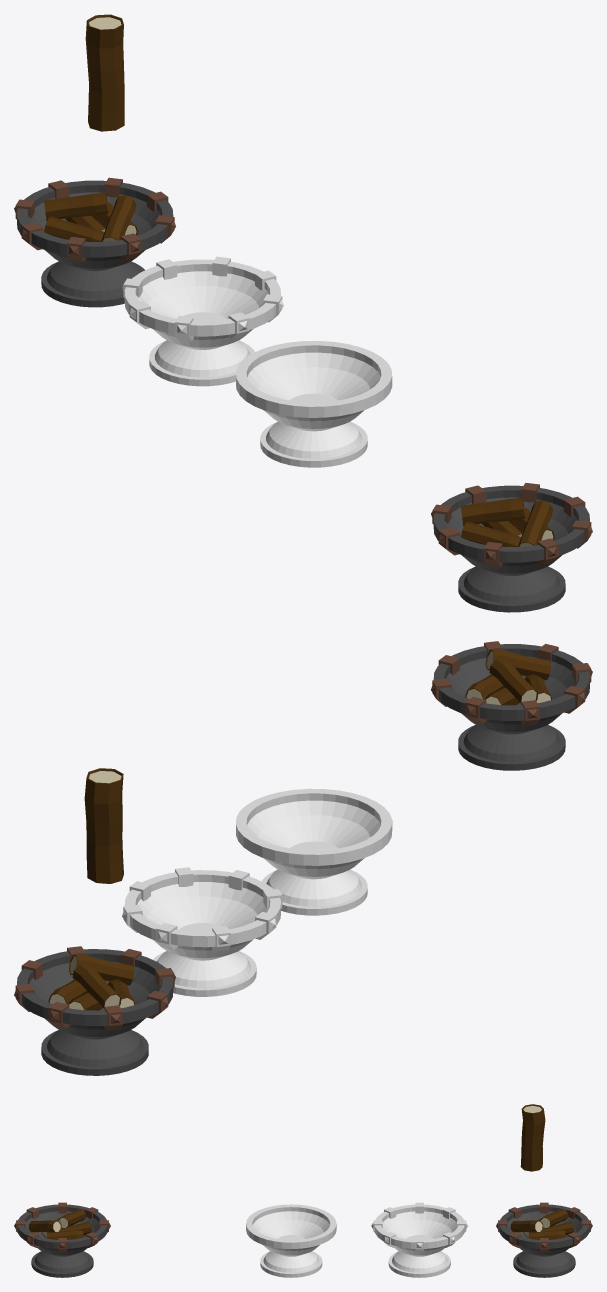
File: BraziersV1.fbx
3 renders of one model, top to bottom at view 1: azimuth 30°, elevation 25°; view 2: azimuth 150°, elevation 25°; view 3: azimuth 270°, elevation 25°, orthographic. The views are drawn at different scales.
Parts seen in each view (by area): view 1: Circle.009, Circle.001, Circle.002, Circle.003, Cylinder.001; view 2: Circle.003, Circle.009, Circle.002, Circle.001, Cylinder.001; view 3: Circle.002, Circle.009, Circle.003, Circle.001, Cylinder.001.
Part boxes in pixels (bbox=[...]): Circle.009: bbox=[431, 482, 592, 612]; Circle.001: bbox=[236, 340, 392, 467]; Circle.002: bbox=[122, 256, 283, 386]; Circle.003: bbox=[14, 177, 175, 307]; Cylinder.001: bbox=[85, 14, 124, 131]; Circle.003: bbox=[14, 946, 175, 1075]; Circle.009: bbox=[431, 641, 592, 770]; Circle.002: bbox=[122, 867, 283, 996]; Circle.001: bbox=[236, 788, 392, 915]; Cylinder.001: bbox=[84, 768, 123, 883]; Circle.002: bbox=[371, 1202, 467, 1277]; Circle.009: bbox=[14, 1202, 110, 1277]; Circle.003: bbox=[496, 1202, 592, 1277]; Circle.001: bbox=[246, 1204, 336, 1277]; Cylinder.001: bbox=[520, 1104, 545, 1171].
Bounding box in the file's own units: 417 × 738 × 2485.
